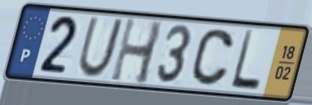2: (35, 14, 80, 76)
3: (155, 22, 195, 86)
C: (188, 27, 236, 89)
H: (107, 15, 167, 87)
L: (228, 28, 263, 93)
U: (75, 16, 126, 80)
